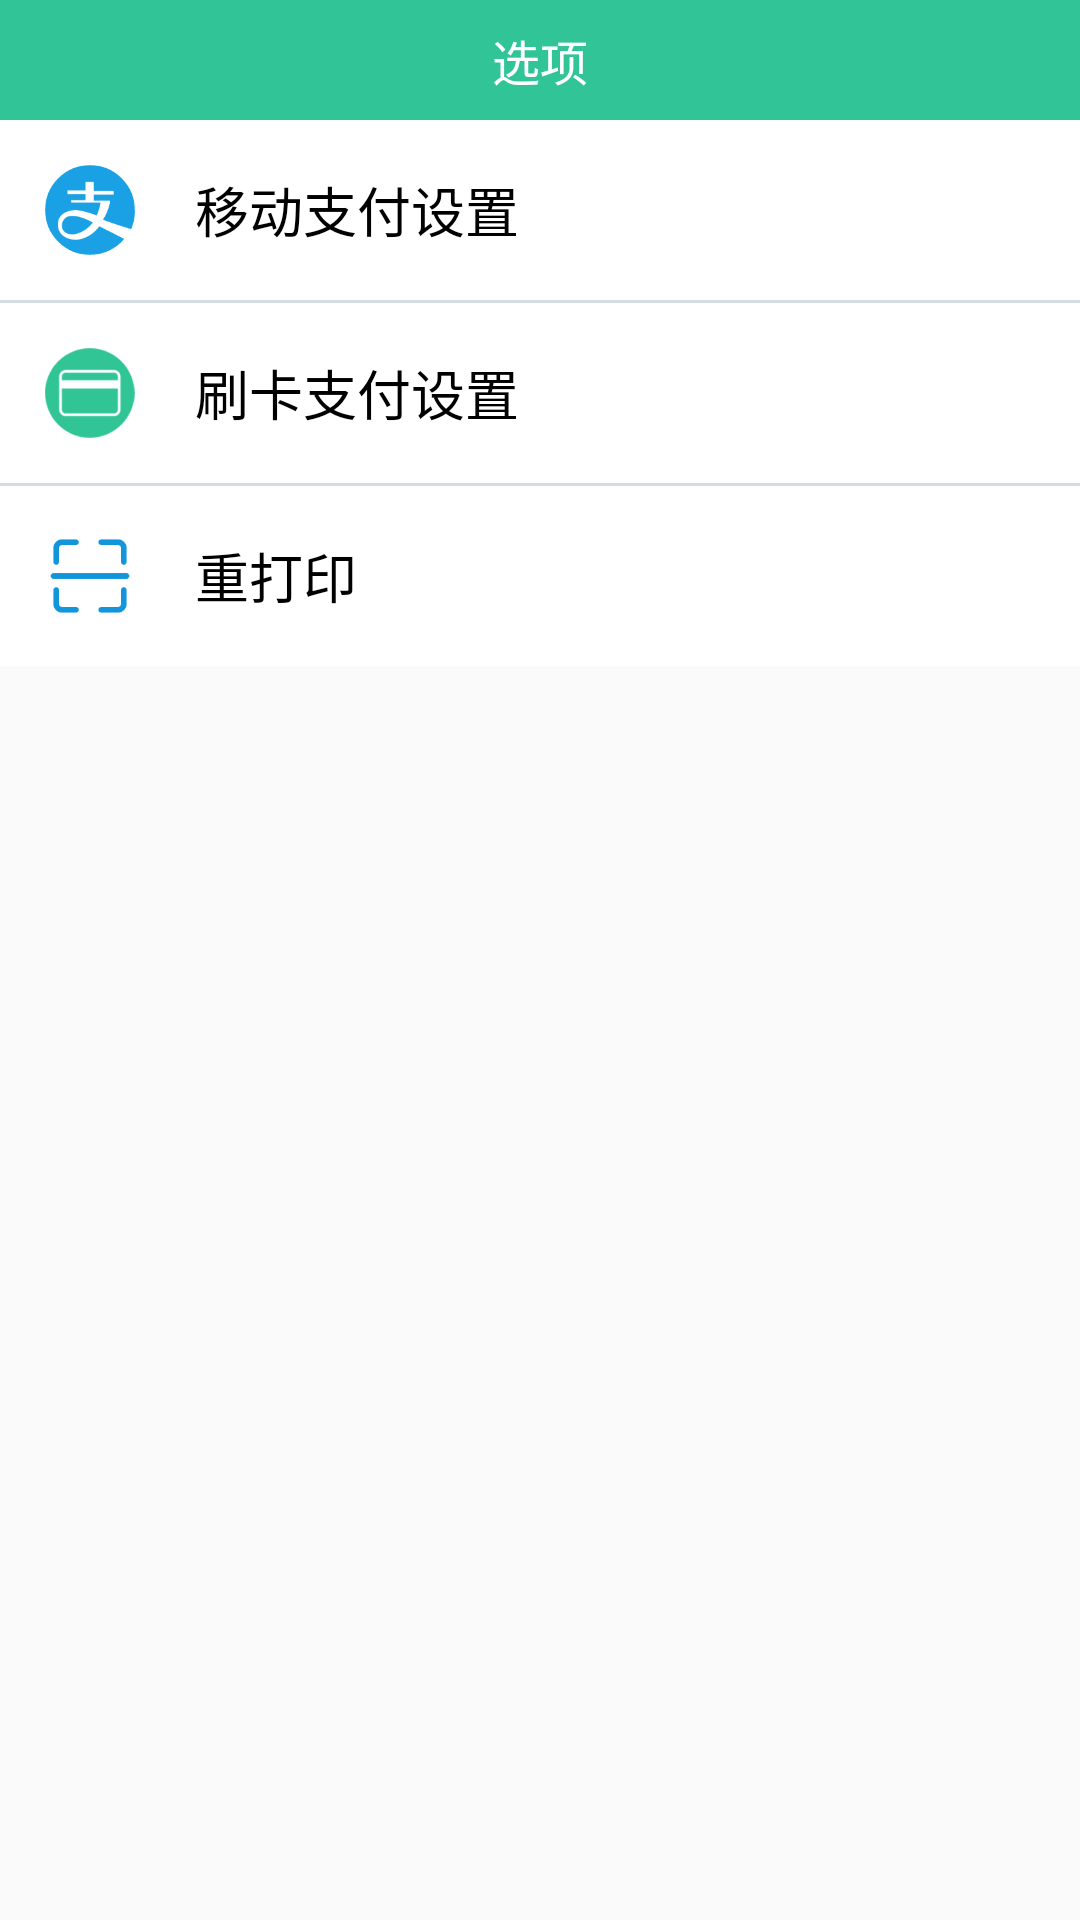

Named icons in this screenshot (1080 x 1920) and their centers, point (x, y):
scan: point (90, 576)
